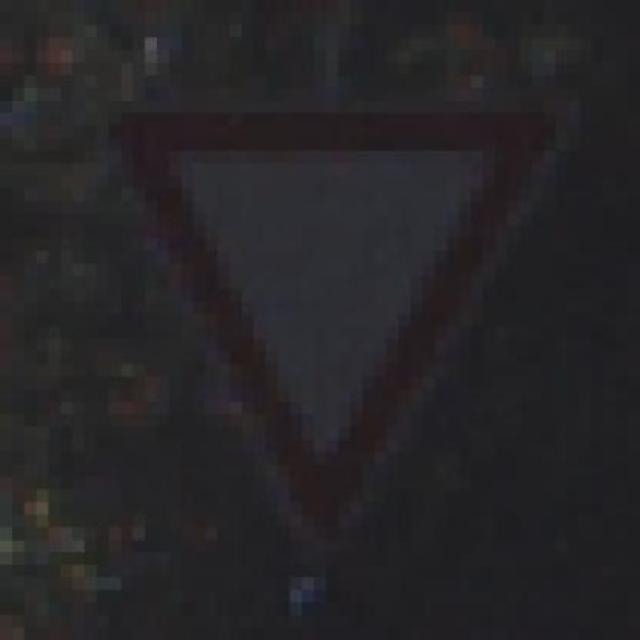Give Way: (72, 76, 580, 564)
